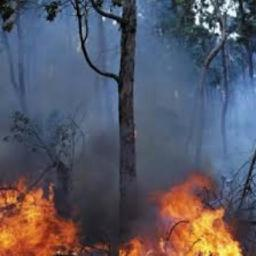Low smoke: (0, 13, 246, 226)
Medium fire: (0, 171, 246, 255)
